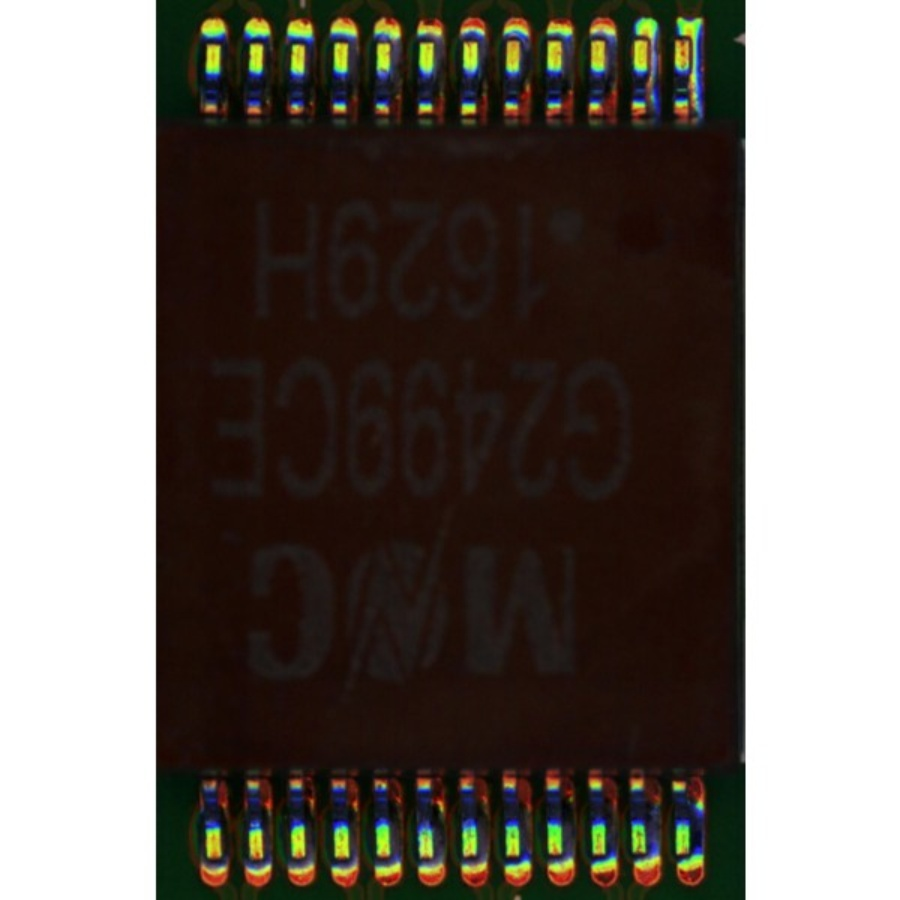Bad_qiaojiao: (690, 39, 702, 120), (648, 39, 659, 115)
